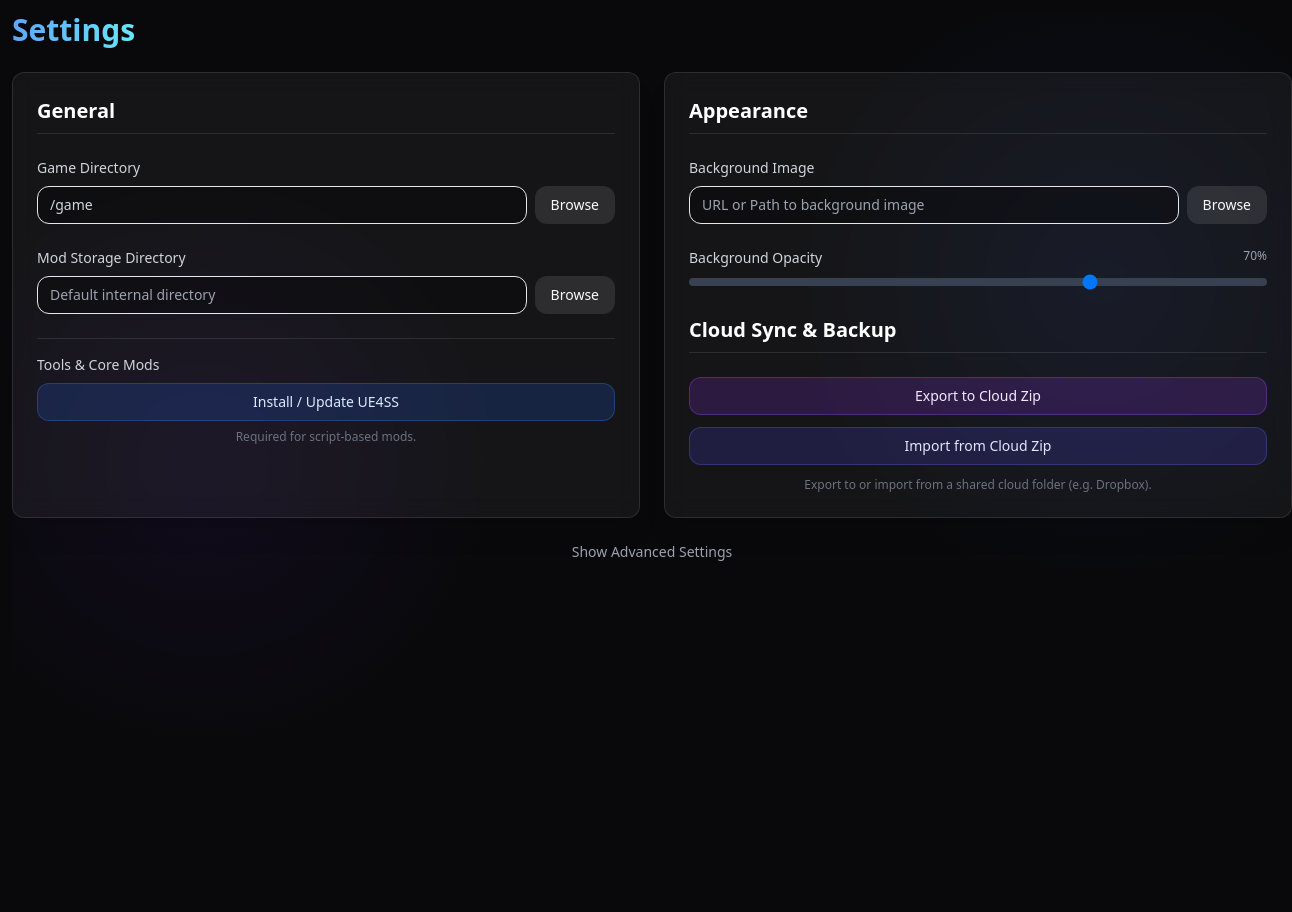
Frontend Coverage Gaps › Settings Page Interactions › should handle UE4SS install success
What coordinates should you click on to do the following:
click the button "Install / Update UE4SS"
I would click on:
 (326, 402)
Its box is [37,383,615,421].
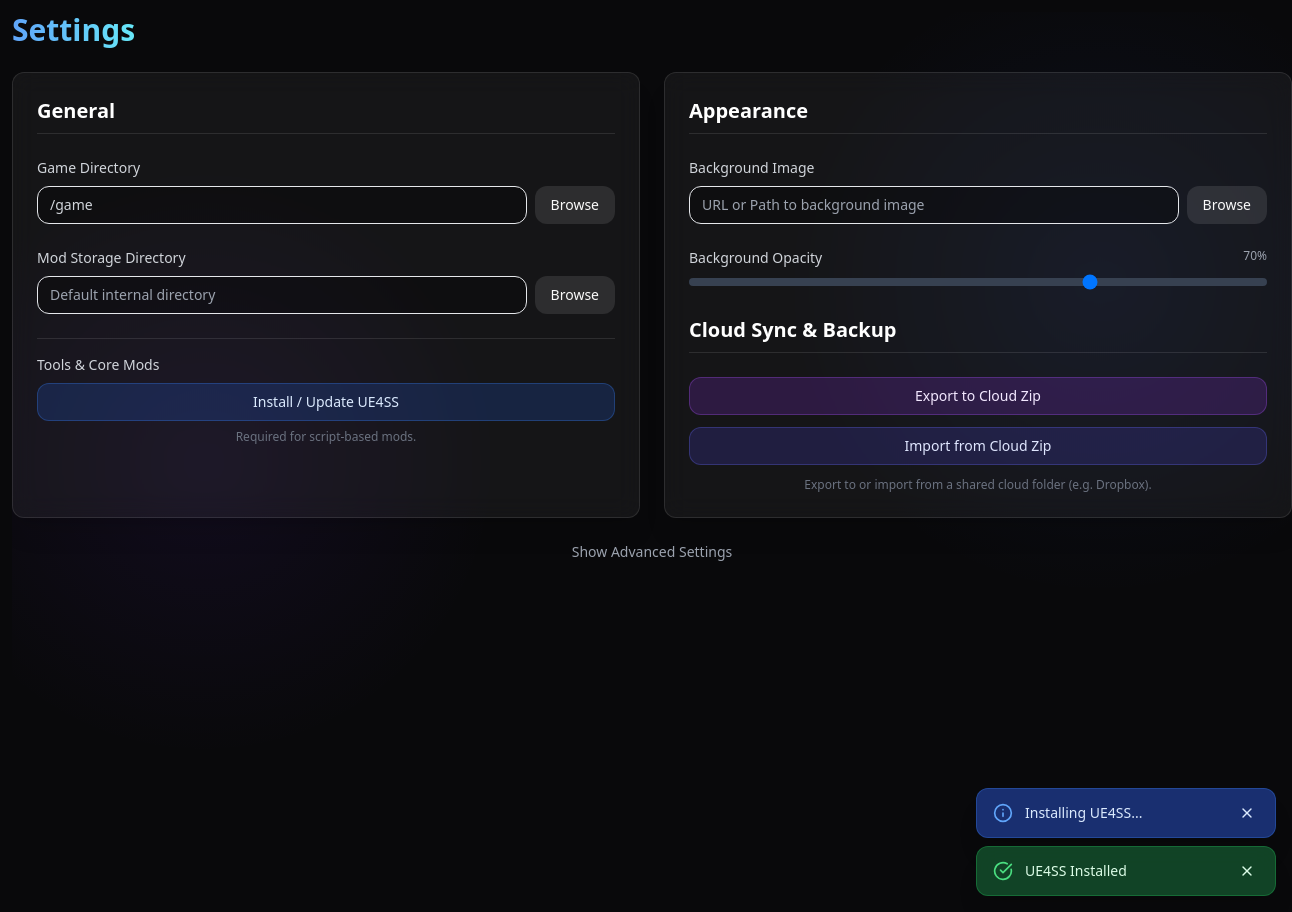
Now the text "UE4SS Installed" is shown, box [1025,861,1127,880]
